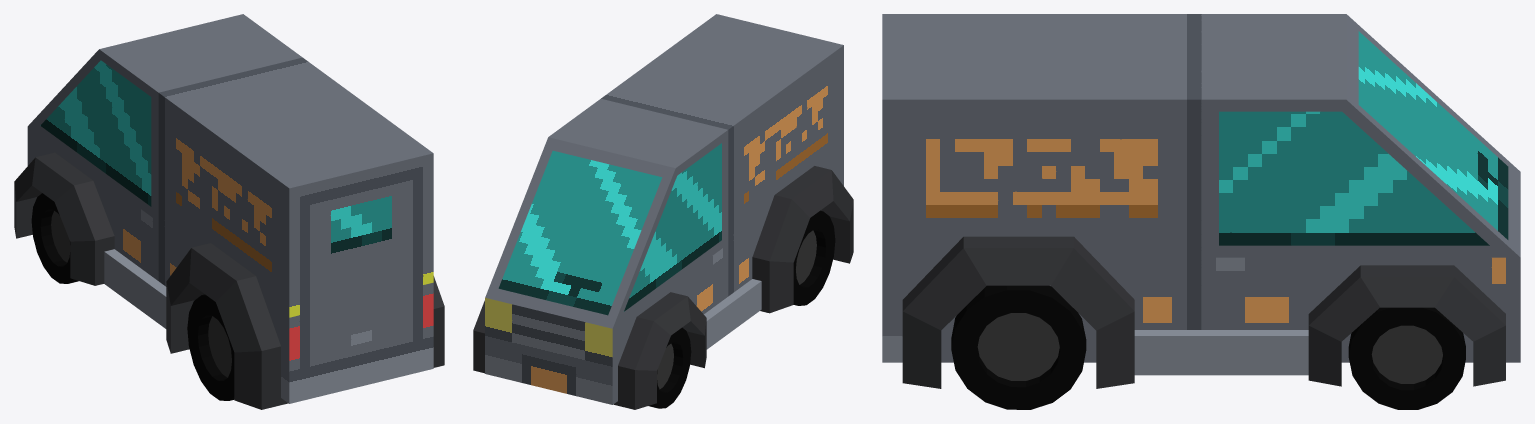
The model's file is Cyberpunk_Car2.gltf.
3 renders of one model, left to right at view 1: azimuth 30°, elevation 25°; view 2: azimuth 150°, elevation 25°; view 3: azimuth 270°, elevation 25°, orthographic. The views are drawn at different scales.
Visible parts, largest first — view 1: cuboid, Fender (×2), Wheel (×2), Under; view 2: cuboid, Fender (×2), Wheel (×2), Under; view 3: cuboid, Fender (×2), Wheel (×2), Under.
Boxes of the visible parts, x1=… form: cuboid: x1=27, y1=14, x2=433, y2=403; Fender (×2): x1=14, y1=152, x2=444, y2=409; Wheel (×2): x1=31, y1=193, x2=234, y2=400; Under: x1=104, y1=249, x2=166, y2=328; cuboid: x1=485, y1=14, x2=843, y2=404; Fender (×2): x1=473, y1=166, x2=853, y2=409; Wheel (×2): x1=649, y1=210, x2=835, y2=408; Under: x1=704, y1=279, x2=761, y2=349; cuboid: x1=882, y1=14, x2=1520, y2=362; Fender (×2): x1=902, y1=236, x2=1505, y2=388; Wheel (×2): x1=951, y1=285, x2=1465, y2=409; Under: x1=1134, y1=330, x2=1308, y2=375.
Size of the model in its own units: 0.625 by 0.7112 by 1.38.
Materials: 1 (1 with a texture image).
